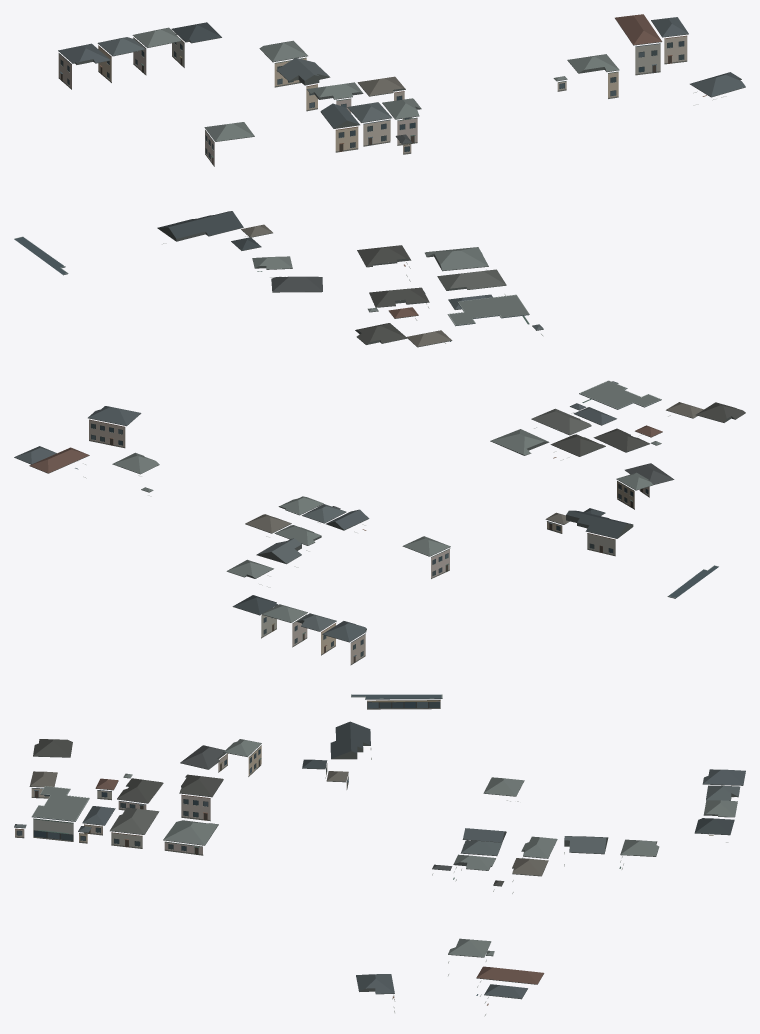
The picture shows the model from 3 angles, top to bottom: view 1: azimuth 30°, elevation 25°; view 2: azimuth 150°, elevation 25°; view 3: azimuth 270°, elevation 25°; orthographic projection. The views are drawn at different scales.
Parts seen in each view (by area): view 1: r7-c1; view 2: r7-c1; view 3: r7-c1.
Boxes of the visible parts, x1=… form: r7-c1: x1=14, y1=14, x2=745, y2=347; r7-c1: x1=14, y1=380, x2=745, y2=665; r7-c1: x1=14, y1=694, x2=745, y2=1016.
Size of the model in its own units: 198 by 11.09 by 190.
